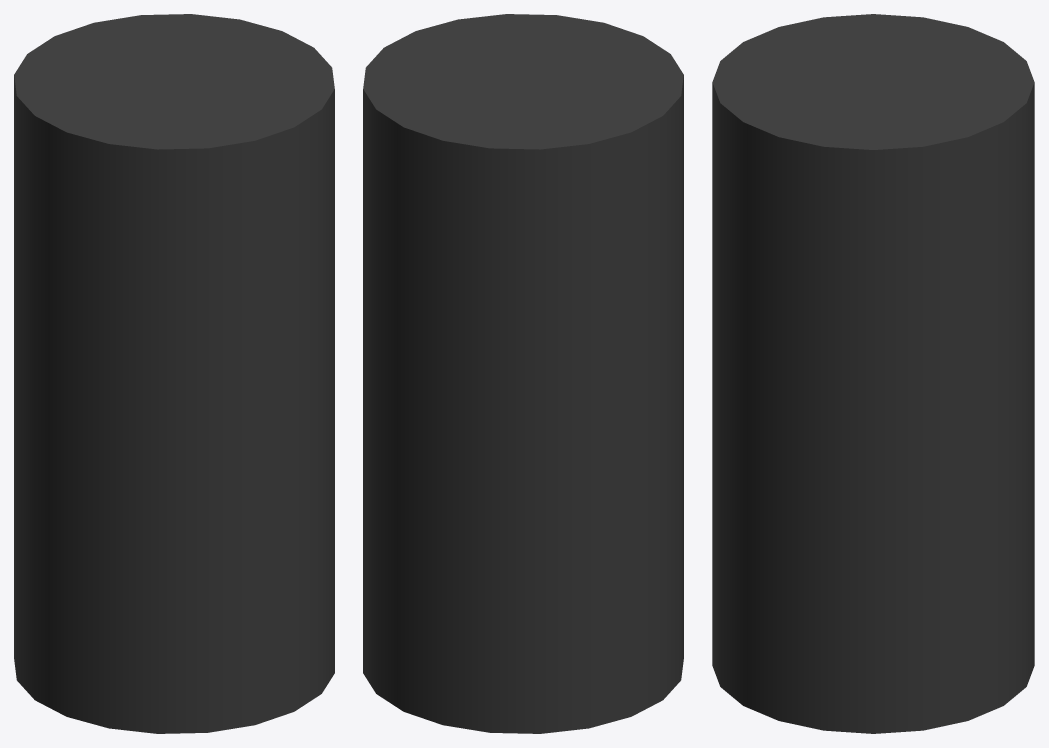
3 views of the same model, side by side, from view 1: azimuth 30°, elevation 25°; view 2: azimuth 150°, elevation 25°; view 3: azimuth 270°, elevation 25° (orthographic).
Visible parts, largest first — view 1: a381ca30a621_10206_Cylinder.obj; view 2: a381ca30a621_10206_Cylinder.obj; view 3: a381ca30a621_10206_Cylinder.obj.
Boxes of the visible parts, <box> form: a381ca30a621_10206_Cylinder.obj: <box>14,14,334,733</box>; a381ca30a621_10206_Cylinder.obj: <box>363,14,683,733</box>; a381ca30a621_10206_Cylinder.obj: <box>712,14,1034,733</box>.
Bounding box in the file's own units: 1 × 2 × 1.
1 material, 1 textured.
